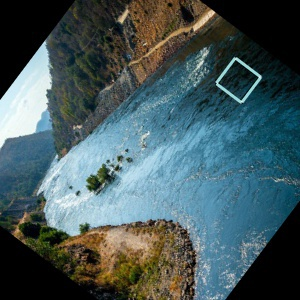square: (212, 53, 266, 106)
